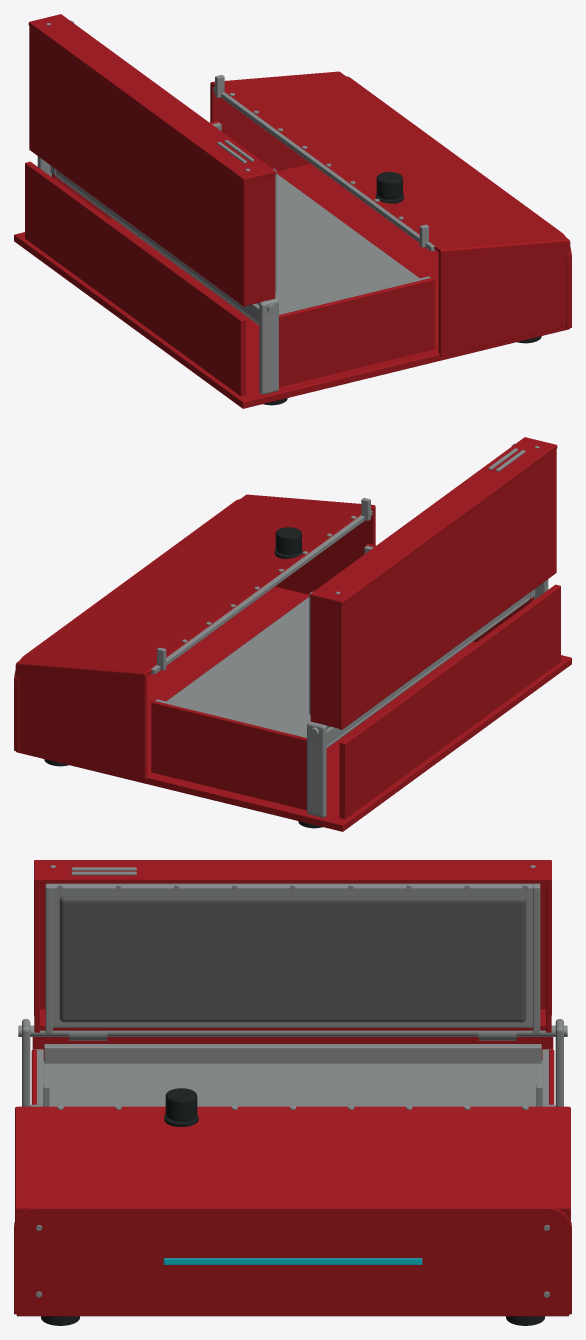
3 renders of one model, top to bottom at view 1: azimuth 30°, elevation 25°; view 2: azimuth 150°, elevation 25°; view 3: azimuth 270°, elevation 25°, orthographic. The views are drawn at different scales.
Visible parts, largest first — view 1: visual_part_000_0_3, visual_part_001_0_1, visual_part_000_0_2, visual_part_002_0_1, visual_part_001_0_2; view 2: visual_part_000_0_3, visual_part_001_0_1, visual_part_000_0_2, visual_part_002_0_1, visual_part_001_0_2; view 3: visual_part_000_0_3, visual_part_001_0_0, visual_part_000_0_2, visual_part_001_0_1, visual_part_001_0_2, visual_part_000_0_0, visual_part_002_0_1, visual_part_000_0_1.
Boxes of the visible parts, left/top/right/bottom form: visual_part_000_0_3: left=14, top=71, right=571, bottom=408; visual_part_001_0_1: left=28, top=14, right=275, bottom=306; visual_part_000_0_2: left=37, top=75, right=435, bottom=394; visual_part_002_0_1: left=376, top=172, right=402, bottom=199; visual_part_001_0_2: left=46, top=20, right=276, bottom=291; visual_part_000_0_3: left=14, top=494, right=571, bottom=831; visual_part_001_0_1: left=310, top=437, right=557, bottom=729; visual_part_000_0_2: left=150, top=498, right=548, bottom=817; visual_part_002_0_1: left=275, top=527, right=301, bottom=554; visual_part_001_0_2: left=309, top=443, right=539, bottom=714; visual_part_000_0_3: left=14, top=1037, right=571, bottom=1316; visual_part_001_0_0: left=59, top=896, right=526, bottom=1022; visual_part_000_0_2: left=18, top=1019, right=567, bottom=1297; visual_part_001_0_1: left=34, top=860, right=551, bottom=1032; visual_part_001_0_2: left=45, top=865, right=540, bottom=1040; visual_part_000_0_0: left=163, top=1258, right=422, bottom=1264; visual_part_002_0_1: left=165, top=1088, right=197, bottom=1121; visual_part_000_0_1: left=41, top=1114, right=544, bottom=1325.
Size of the model in its own units: 0.4925 by 0.3415 by 0.6.
